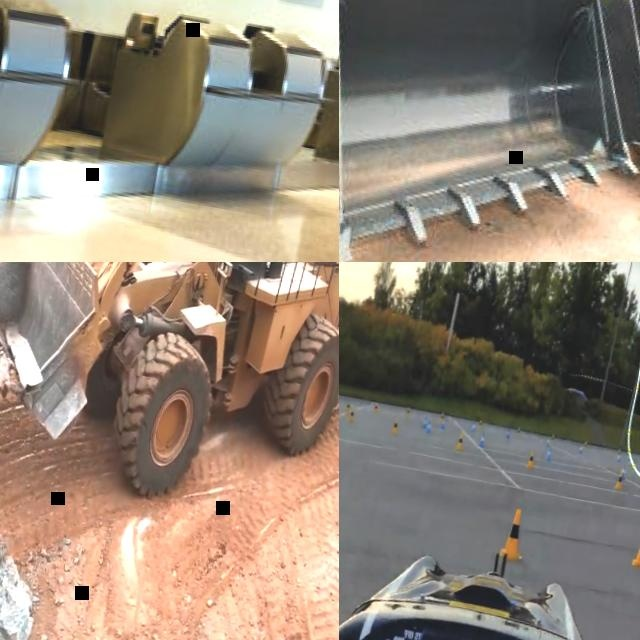Safety Cone: (495, 501, 531, 561), (628, 518, 640, 572), (613, 466, 626, 491), (525, 446, 537, 470), (454, 429, 466, 450), (390, 417, 401, 438), (341, 399, 352, 420), (347, 406, 358, 426), (543, 443, 553, 465), (477, 429, 487, 450), (425, 419, 435, 440)
machinery: (0, 262, 339, 532), (339, 0, 640, 262), (385, 0, 640, 229)
vehicle: (339, 499, 640, 640)
